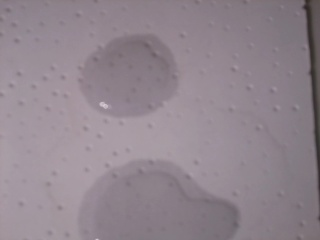Water_detected: (100, 162, 206, 240), (82, 36, 163, 103)
